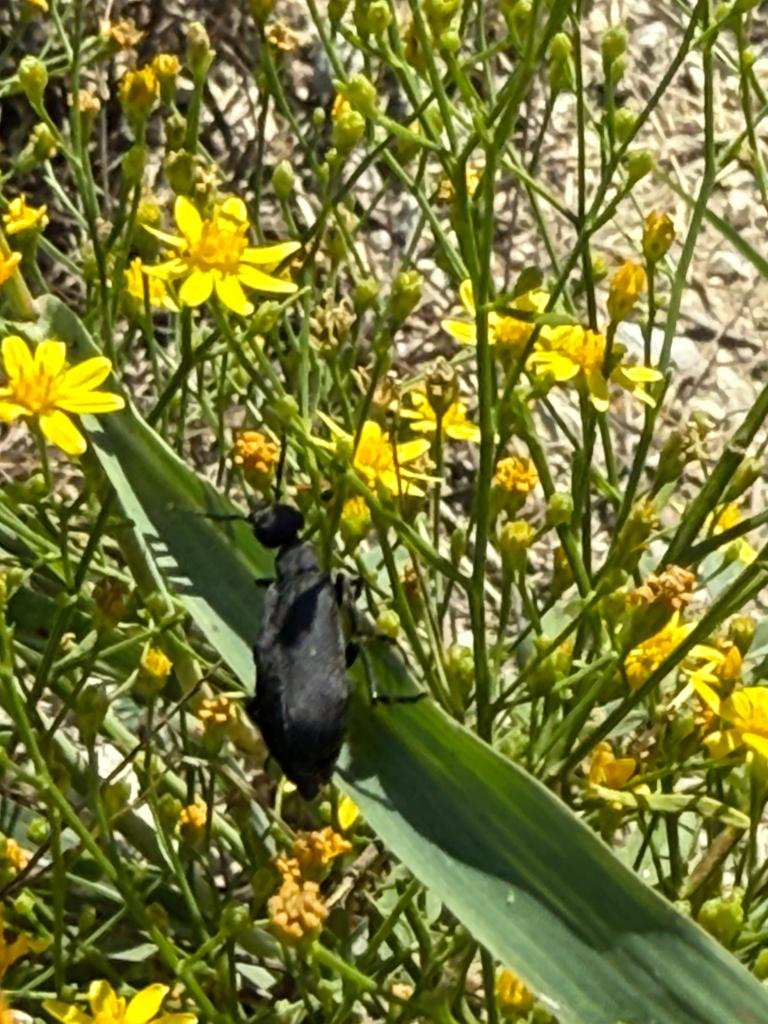blister_beetle: (147, 408, 471, 820)
